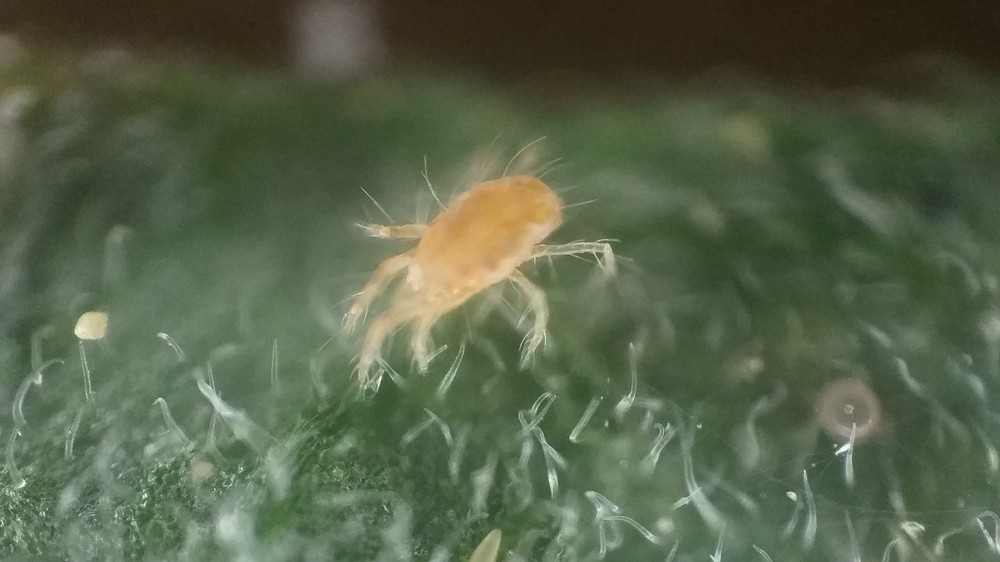Aracnido Rojo: (319, 137, 634, 398)
